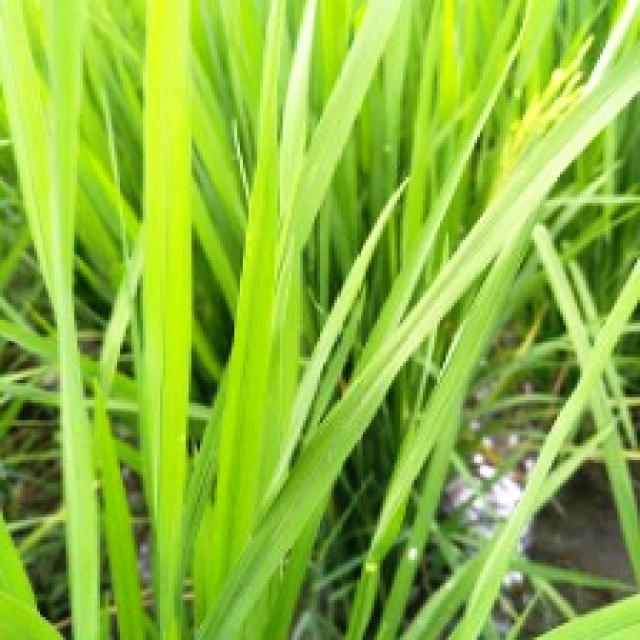health: (144, 0, 458, 632)
